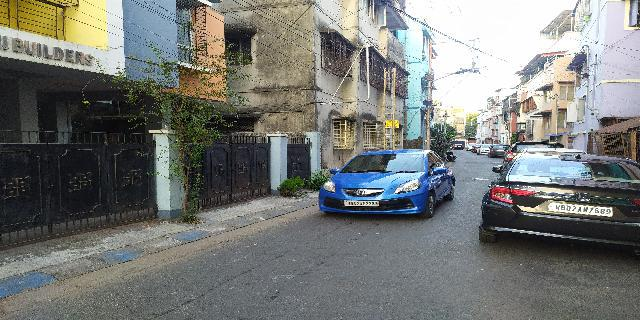Car: (482, 146, 640, 261), (318, 144, 458, 232)
